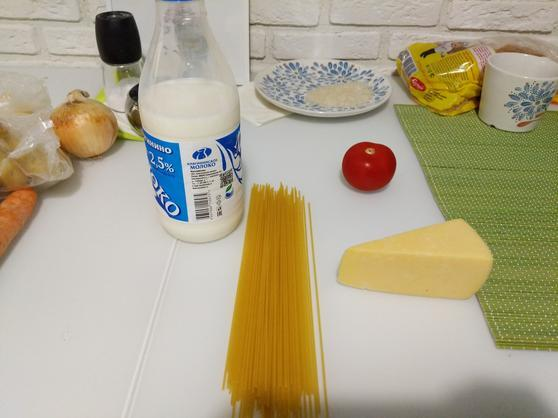cheese: (333, 215, 499, 306)
milk: (126, 1, 258, 254)
onion: (47, 90, 127, 168)
rice: (302, 74, 379, 112)
spaghetti: (220, 177, 334, 418)
tomato: (342, 138, 400, 196)
